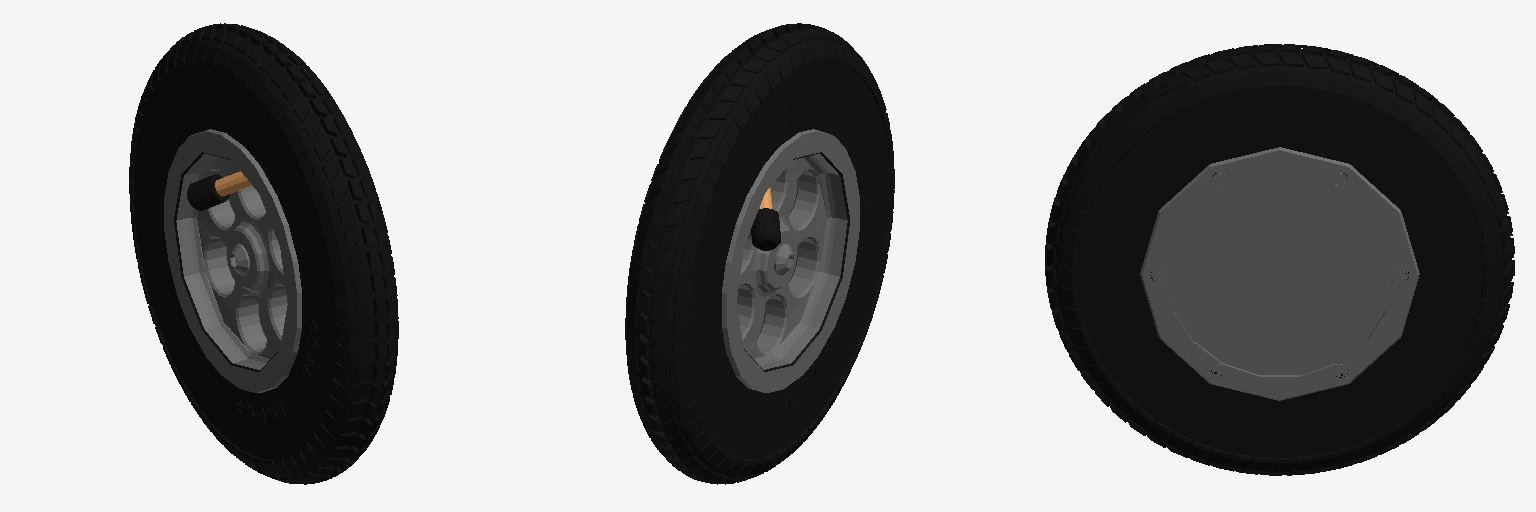
File: Left_Tire.obj
3 renders of one model, left to right at view 1: azimuth 30°, elevation 25°; view 2: azimuth 150°, elevation 25°; view 3: azimuth 270°, elevation 25°, orthographic.
Parts seen in each view (by area): view 1: Left_Tire; view 2: Left_Tire; view 3: Left_Tire.
Boxes of the visible parts, x1=… form: Left_Tire: x1=129, y1=23, x2=398, y2=484; Left_Tire: x1=625, y1=23, x2=894, y2=484; Left_Tire: x1=1045, y1=44, x2=1514, y2=475.
Size of the model in its own units: 1.24 by 6.3 by 6.3.